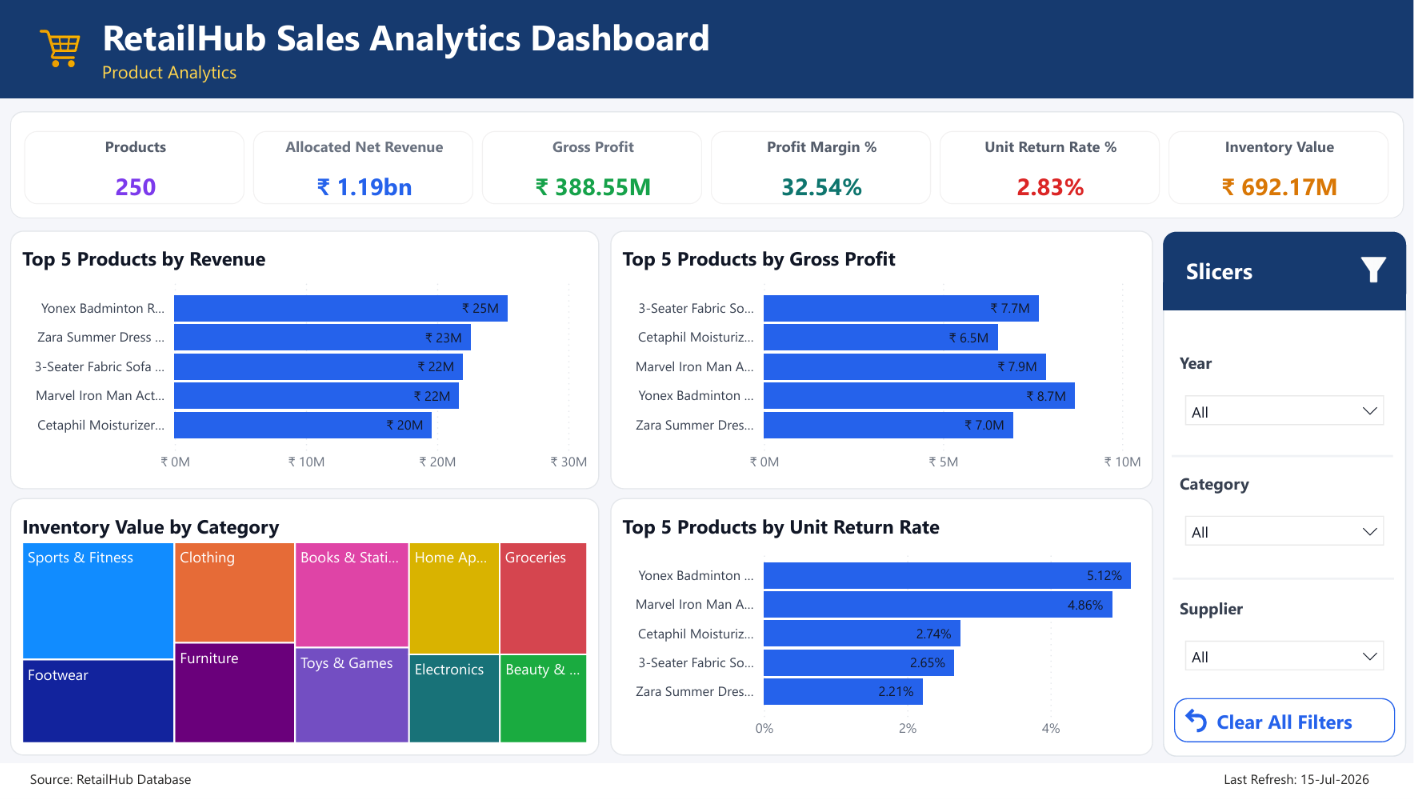

What the dashboard file says about the page in this screenshot:
{"tool":"powerbi","page":{"name":"Product Analytics","canvas":[1280,720],"ordinal":1},"visuals":[{"type":"shape","box":[1053.3,211.1,220,474.4],"z":0},{"type":"textbox","box":[0,0,1280,90],"z":1000},{"type":"image","box":[35,25,41.2,41.2],"z":2000},{"type":"slicer","title":"Year","fields":{"Values":["Date.Year"]},"box":[1063,311.1,200,85.6],"z":3000},{"type":"slicer","title":"Category","fields":{"Values":["categories.Category_Name"]},"box":[1063,420,200,85.6],"z":4000},{"type":"slicer","title":"Supplier","fields":{"Values":["suppliers.Supplier_Name"]},"box":[1063.3,533.3,200,85.6],"z":5000},{"type":"cardVisual","title":"Net Revenue","fields":{"Data":["📊 Measures.Total Products","📊 Measures.Allocated Net Revenue","📊 Measures.Gross Profit","📊 Measures.Profit Margin %","📊 Measures.Unit Return Rate %","📊 Measures.Inventory Value"]},"box":[10,102,1260.7,96.5],"z":6000},{"type":"actionButton","box":[1063.3,633.3,200,40],"z":7000},{"type":"shape","box":[0,692,1280,28],"z":8000},{"type":"textbox","box":[22.7,692,164,28],"z":9000},{"type":"textbox","box":[1103.3,692,154,28],"z":10000},{"type":"shape","box":[1062.2,516.7,200,16.7],"z":11000},{"type":"shape","box":[1061.1,405.6,200,16.7],"z":12000},{"type":"shape","box":[1053.3,257,220,25],"z":13000},{"type":"shape","title":"Slicers","box":[1053.3,211.1,220,67.8],"z":14000},{"type":"image","box":[1228.6,233.6,29.3,23.6],"z":15000},{"type":"clusteredBarChart","title":"Top 5 Products by Revenue","fields":{"Y":["📊 Measures.Allocated Net Revenue"],"Category":["products.Product_Name"]},"box":[9.7,209.9,533.2,234],"z":16000},{"type":"clusteredBarChart","title":"Top 5 Products by Gross Profit","fields":{"Category":["products.Product_Name"],"Y":["📊 Measures.Gross Profit"]},"box":[552.5,209.9,491,234],"z":17000},{"type":"treemap","title":"Inventory Value by Category","fields":{"Group":["categories.Category_Name"],"Values":["📊 Measures.Inventory Value"]},"box":[9.7,452.4,533.2,232.8],"z":18000},{"type":"clusteredBarChart","title":"Top 5 Products by Unit Return Rate","fields":{"Category":["products.Product_Name"],"Y":["📊 Measures.Unit Return Rate %"]},"box":[552.5,452.4,491,232.8],"z":19000}]}

Visuals, with their boxes in screenshot pixels (x1, y1, x2, y2), scaled from the page's 1280x720 canvas onto the 1414x799 screenshot:
shape: [1164,234,1407,761]
textbox: [0,0,1413,100]
image: [39,28,84,73]
"Year" slicer: [1174,345,1395,440]
"Category" slicer: [1174,466,1395,561]
"Supplier" slicer: [1175,592,1396,687]
"Net Revenue" cardVisual: [11,113,1404,220]
actionButton: [1175,703,1396,747]
shape: [0,768,1413,798]
textbox: [25,768,206,798]
textbox: [1219,768,1389,798]
shape: [1173,573,1394,592]
shape: [1172,450,1393,469]
shape: [1164,285,1407,313]
"Slicers" shape: [1164,234,1407,310]
image: [1357,259,1390,285]
"Top 5 Products by Revenue" clusteredBarChart: [11,233,600,493]
"Top 5 Products by Gross Profit" clusteredBarChart: [610,233,1153,493]
"Inventory Value by Category" treemap: [11,502,600,760]
"Top 5 Products by Unit Return Rate" clusteredBarChart: [610,502,1153,760]
